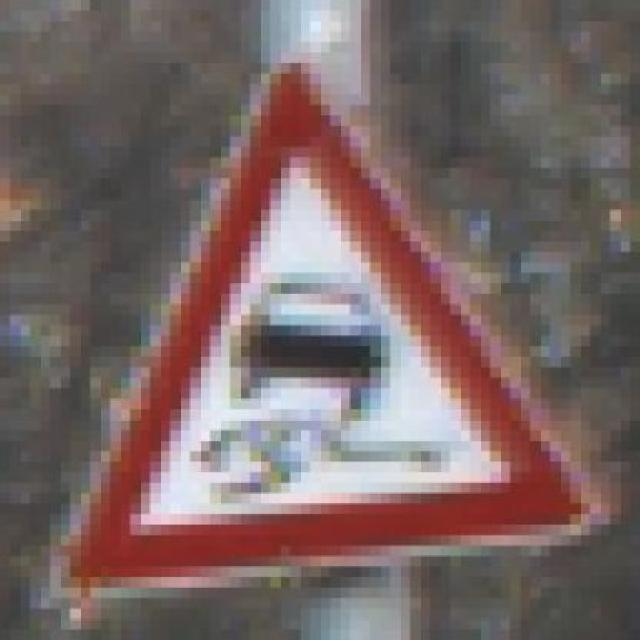Slippery Road Ahead: (40, 63, 620, 588)
